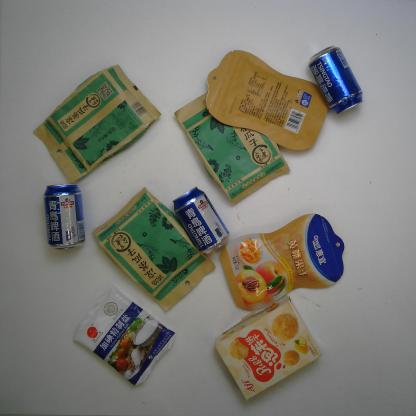Alcohol: (168, 186, 233, 256), (307, 42, 364, 115), (40, 178, 87, 253)
Dessert: (208, 298, 326, 405)
Dried Food: (91, 184, 219, 318), (27, 61, 164, 185), (173, 85, 292, 208)
Dried Fruit: (213, 212, 346, 317), (204, 48, 331, 153)
Seasoner: (71, 277, 176, 389)
